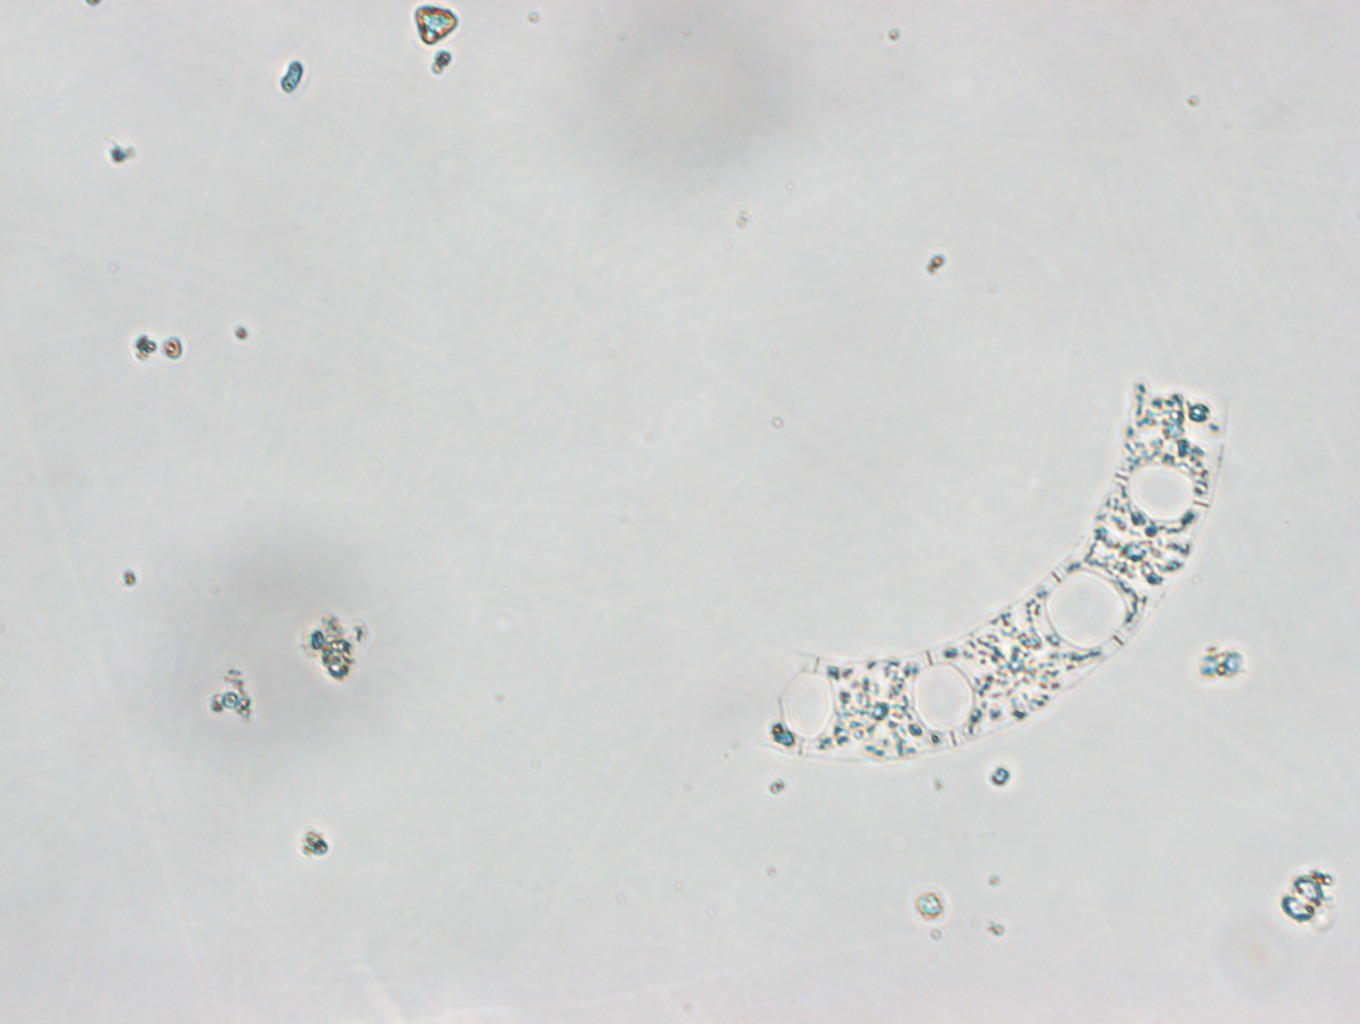eucampia: (763, 378, 1227, 760)
